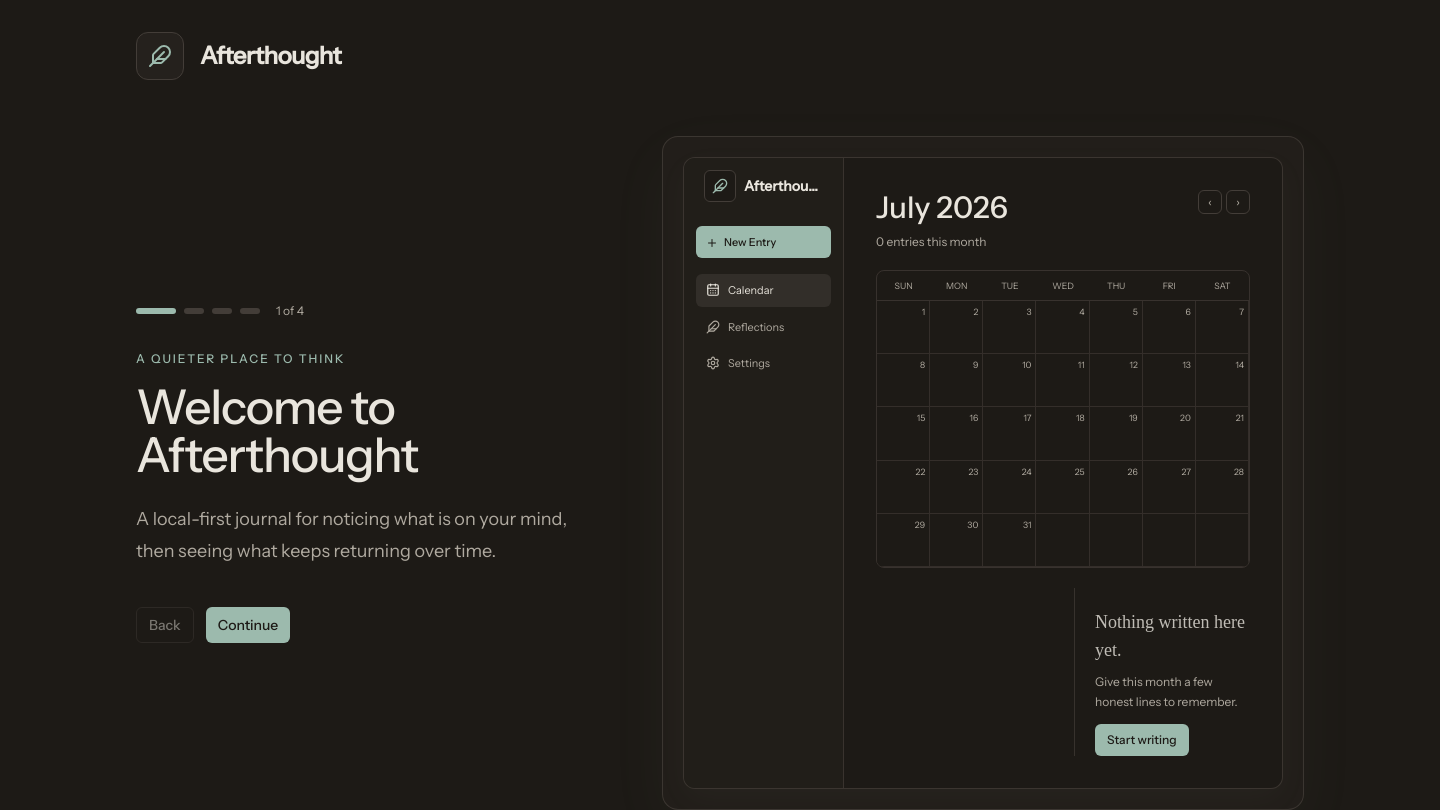
Test: OnboardingPage › previews the single reflections page and recurring themes
Click the button "Continue".
click(248, 625)  # box [206, 607, 290, 643]
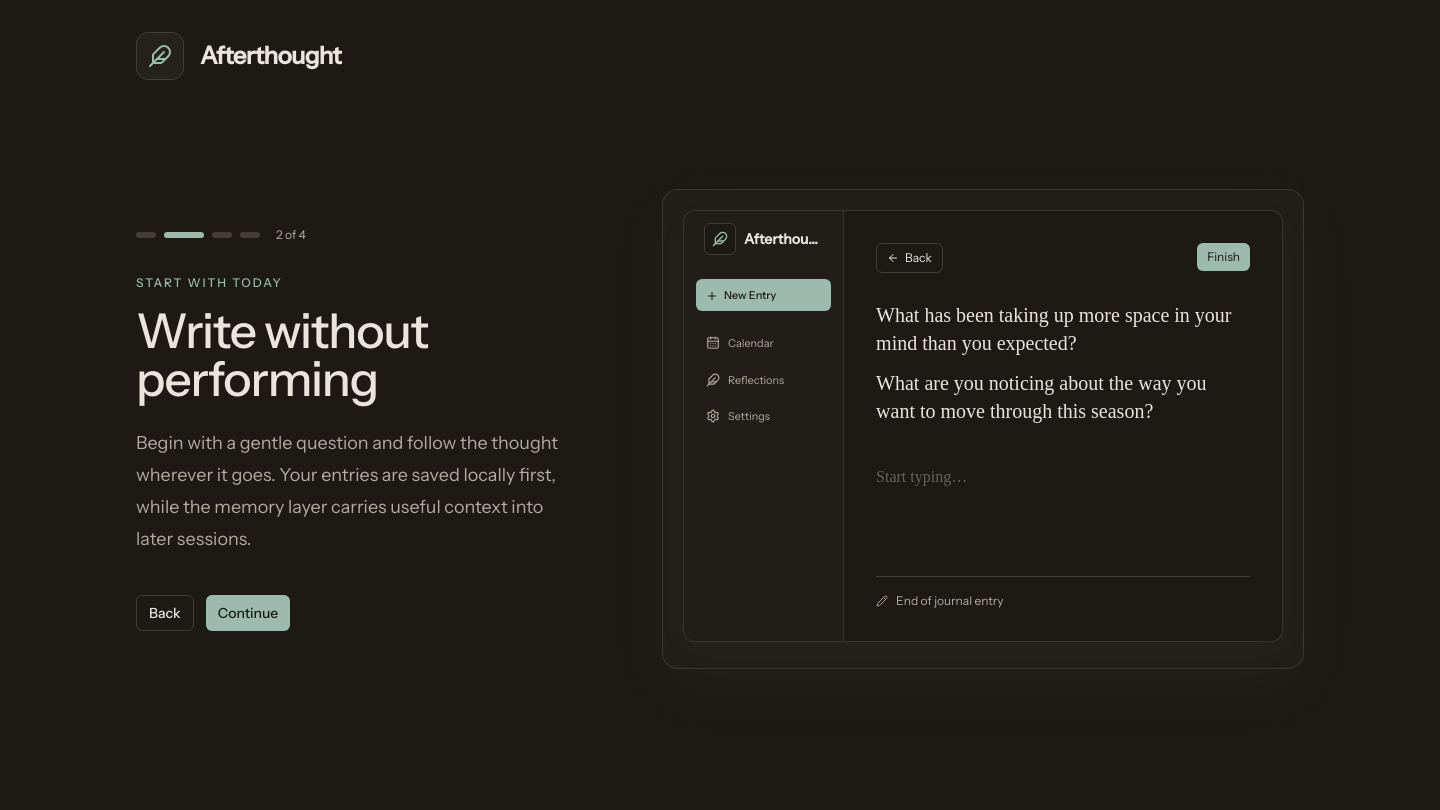
Click the button "Continue".
click(248, 613)  # box [206, 595, 290, 631]
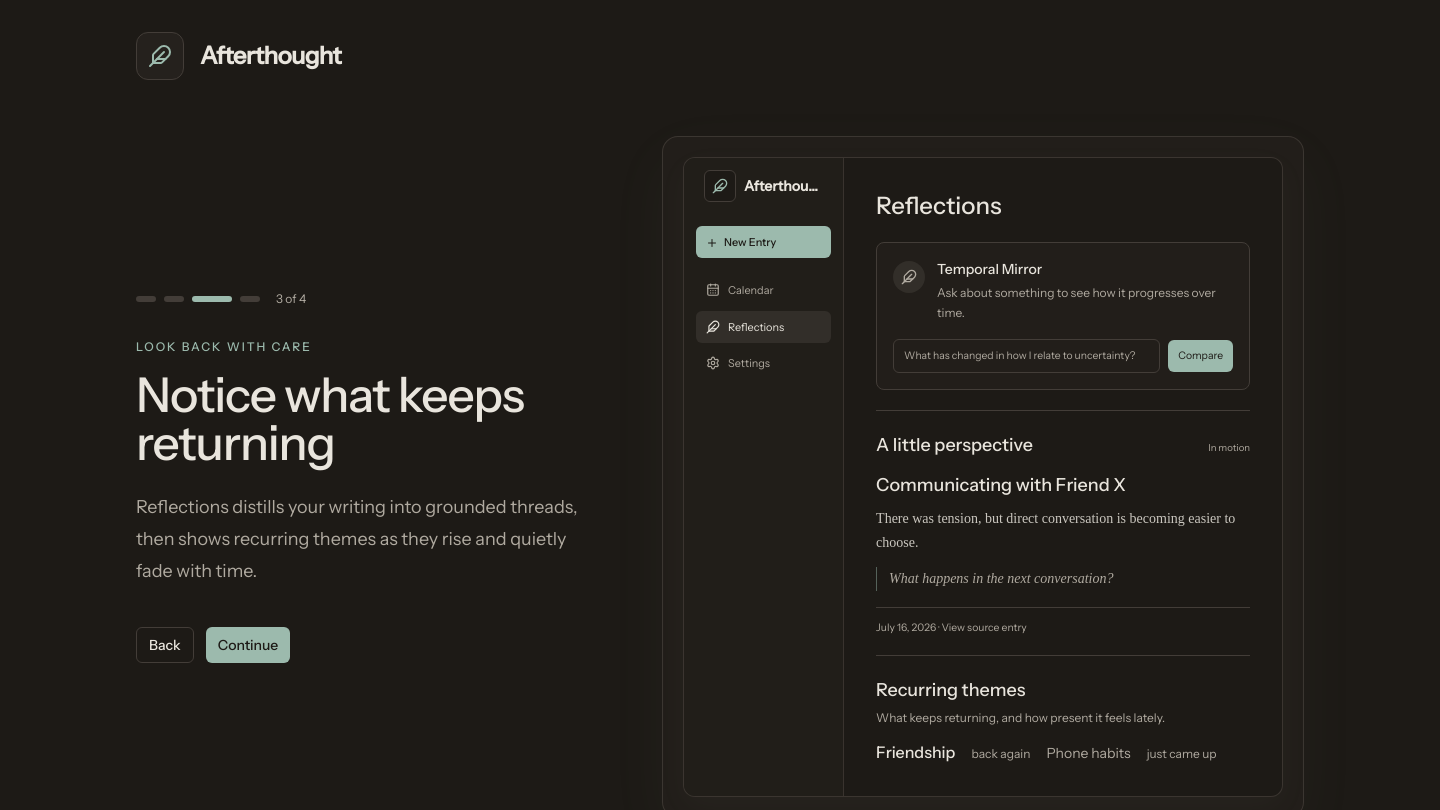
Now the heading "Notice what keeps returning" is shown, box [136, 371, 582, 467]
Now the text "Recurring themes" is shown, box [876, 679, 1026, 701]
